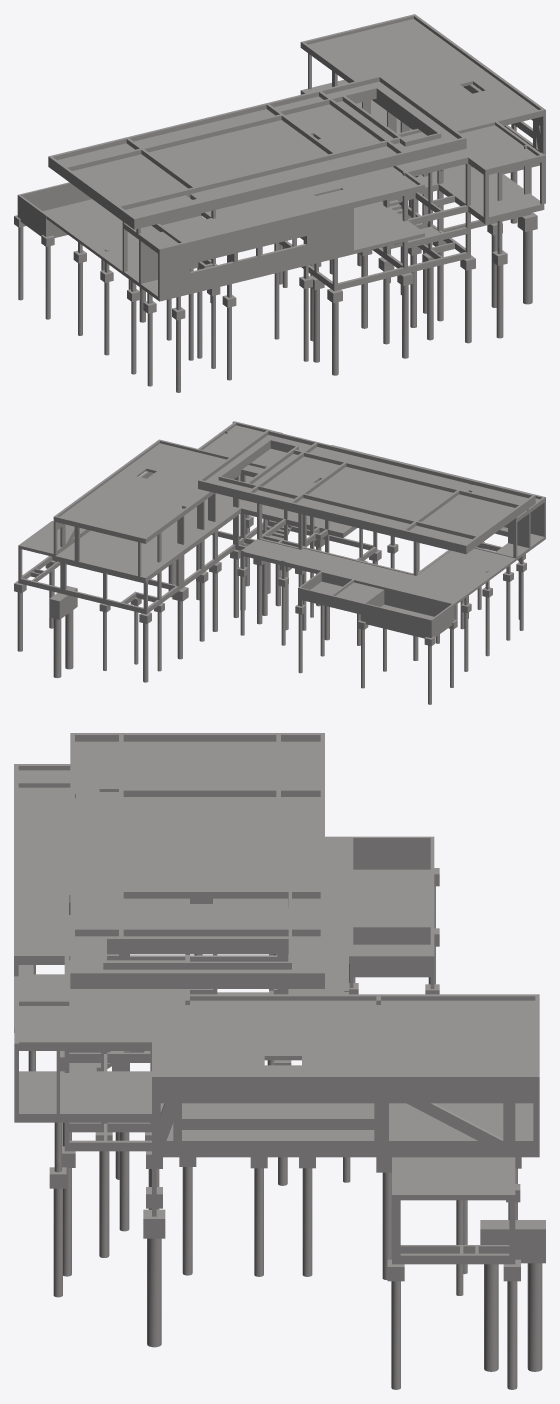
File: casa_mg.glb
The picture shows the model from 3 angles, top to bottom: view 1: azimuth 30°, elevation 25°; view 2: azimuth 150°, elevation 25°; view 3: azimuth 270°, elevation 25°; orthographic projection. The views are drawn at different scales.
Visible parts, largest first — view 1: Object_2; view 2: Object_2; view 3: Object_2.
Part boxes in pixels (x1,y1,x2,y2): Object_2: (14, 14, 545, 392); Object_2: (14, 421, 545, 704); Object_2: (14, 733, 545, 1389).
Bounding box in the file's own units: 69.63 × 29.1 × 43.77.
1 material, 1 textured.
